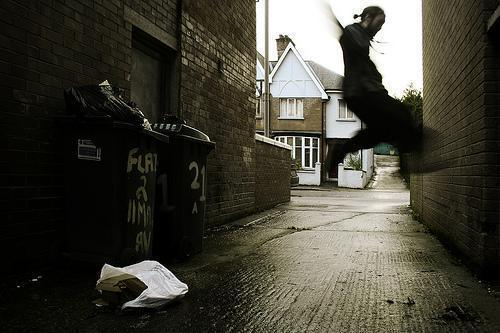Bote de Basura: (61, 104, 167, 268), (135, 123, 219, 262)
